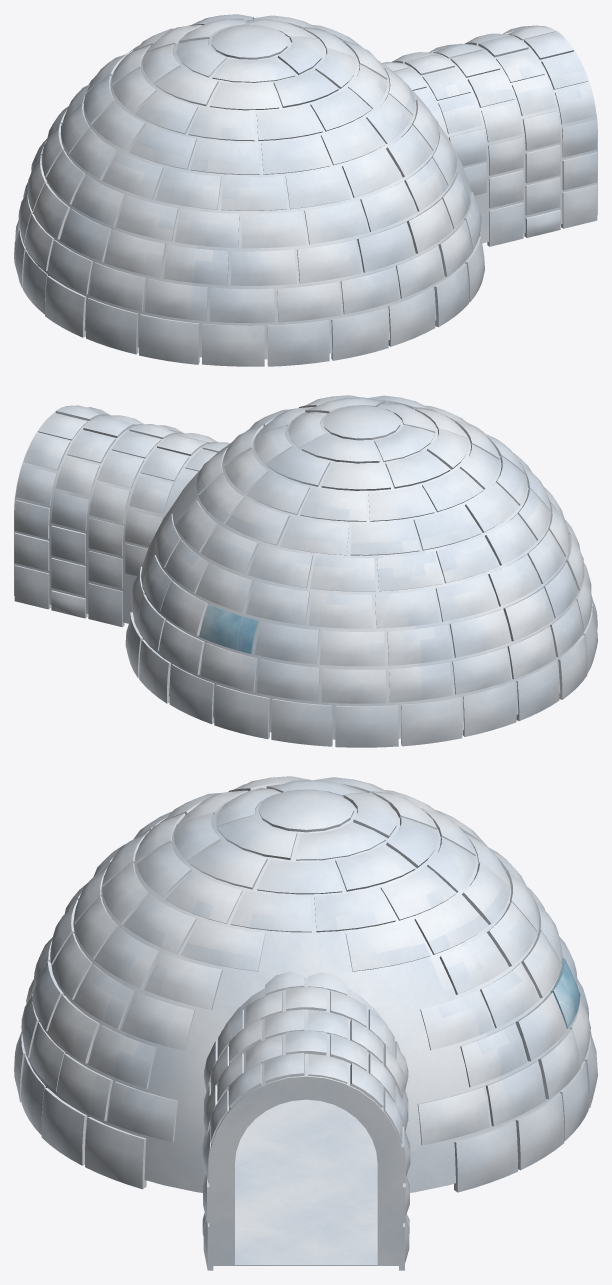
Rendered from SM_Igloo.fbx.
The picture shows the model from 3 angles, top to bottom: view 1: azimuth 30°, elevation 25°; view 2: azimuth 150°, elevation 25°; view 3: azimuth 270°, elevation 25°; orthographic projection. The views are drawn at different scales.
Parts seen in each view (by area): view 1: SM_Igloo; view 2: SM_Igloo; view 3: SM_Igloo.
Boxes of the visible parts, <box> form: SM_Igloo: <box>14,14,597,366</box>; SM_Igloo: <box>14,395,597,747</box>; SM_Igloo: <box>14,776,597,1270</box>.
Size of what is drawn, in the model's own units: 573 by 716 by 311.
